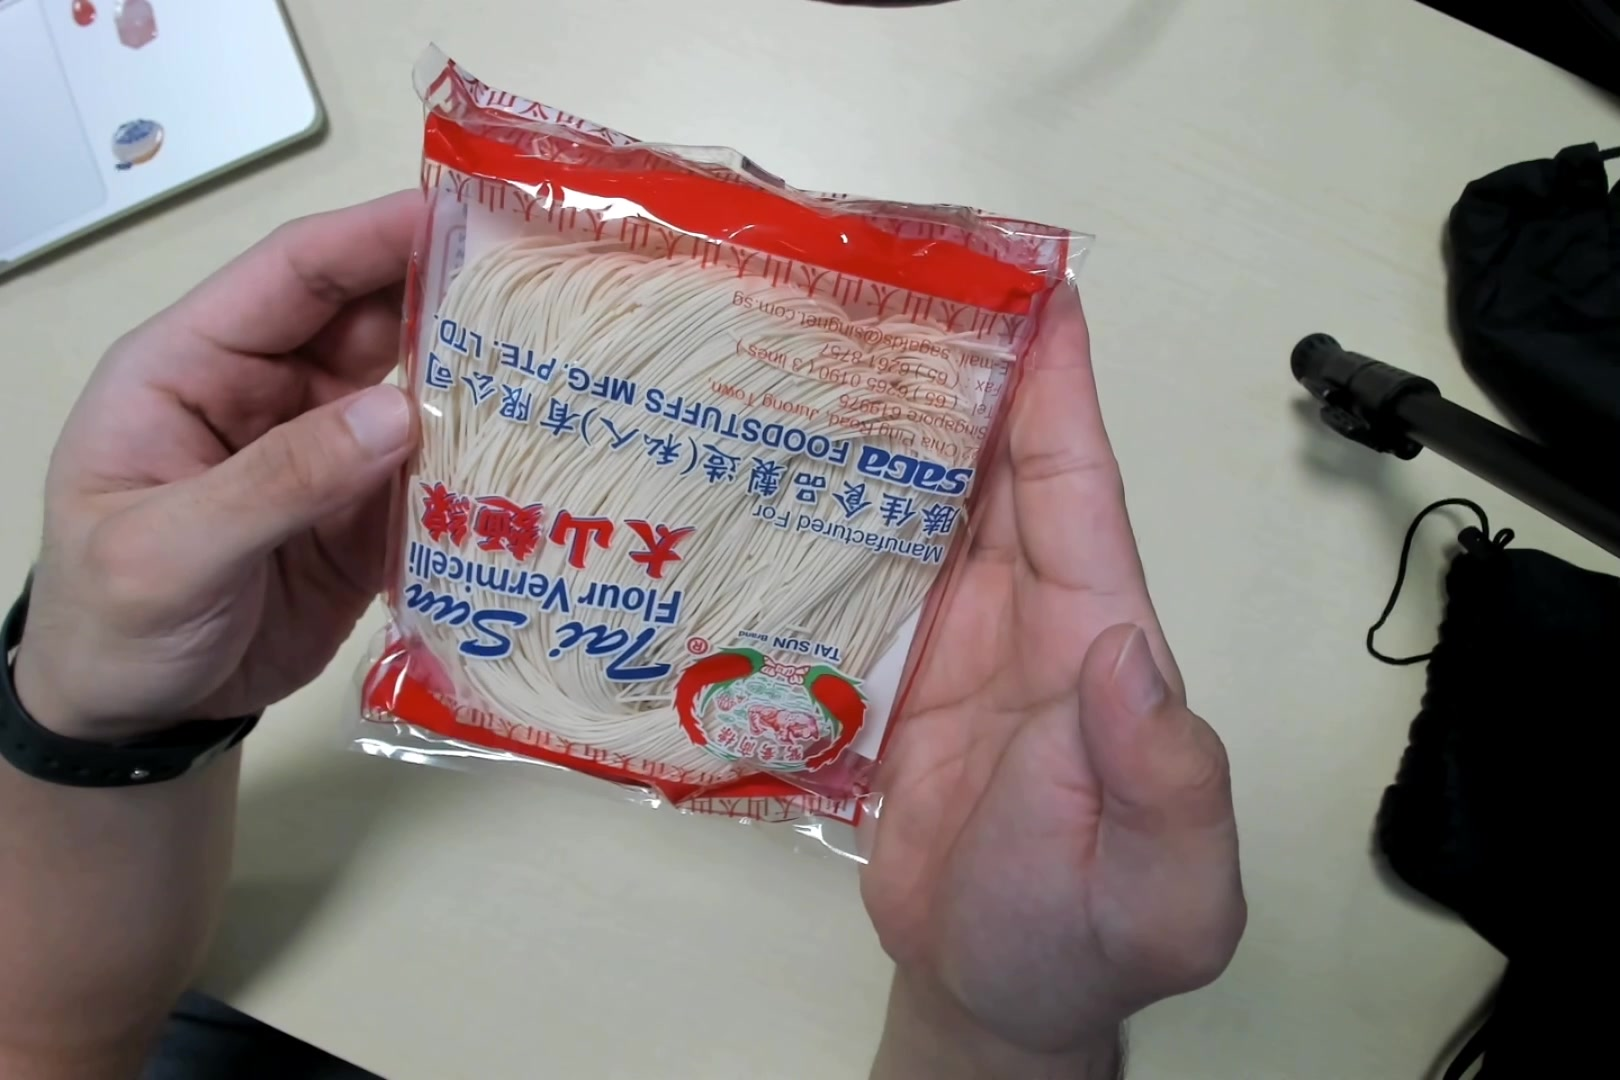BeeHoonVermicelli_100-199g_Halal_NonHealthy: (364, 71, 1060, 874)
